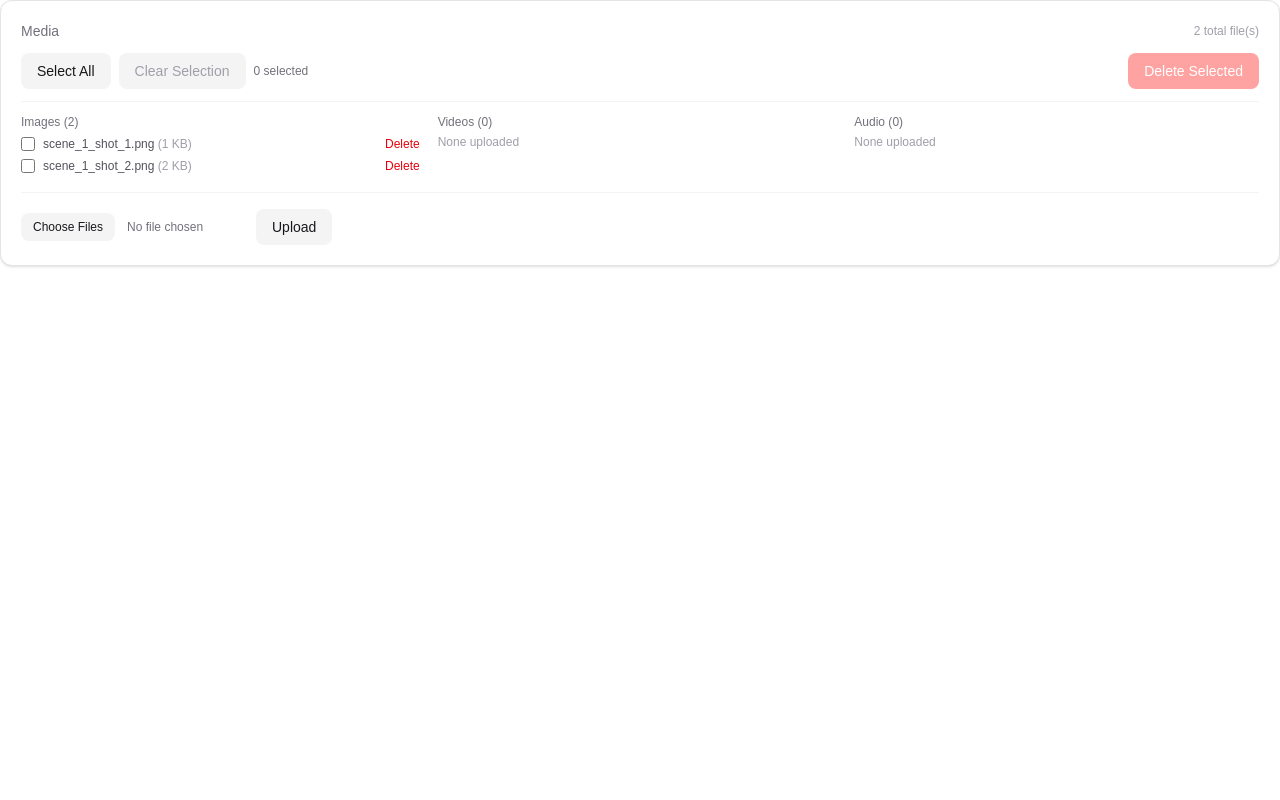
it: MediaPanel › shows an error message when a single delete fails
The image size is (1280, 800).
Check: the text "scene_1_shot_1.png" is shown, box [43,137,154,151]
Step 1. Click the button with aria-label "Delete scene_1_shot_1.png" → (402, 144), box [379,134,426,154]
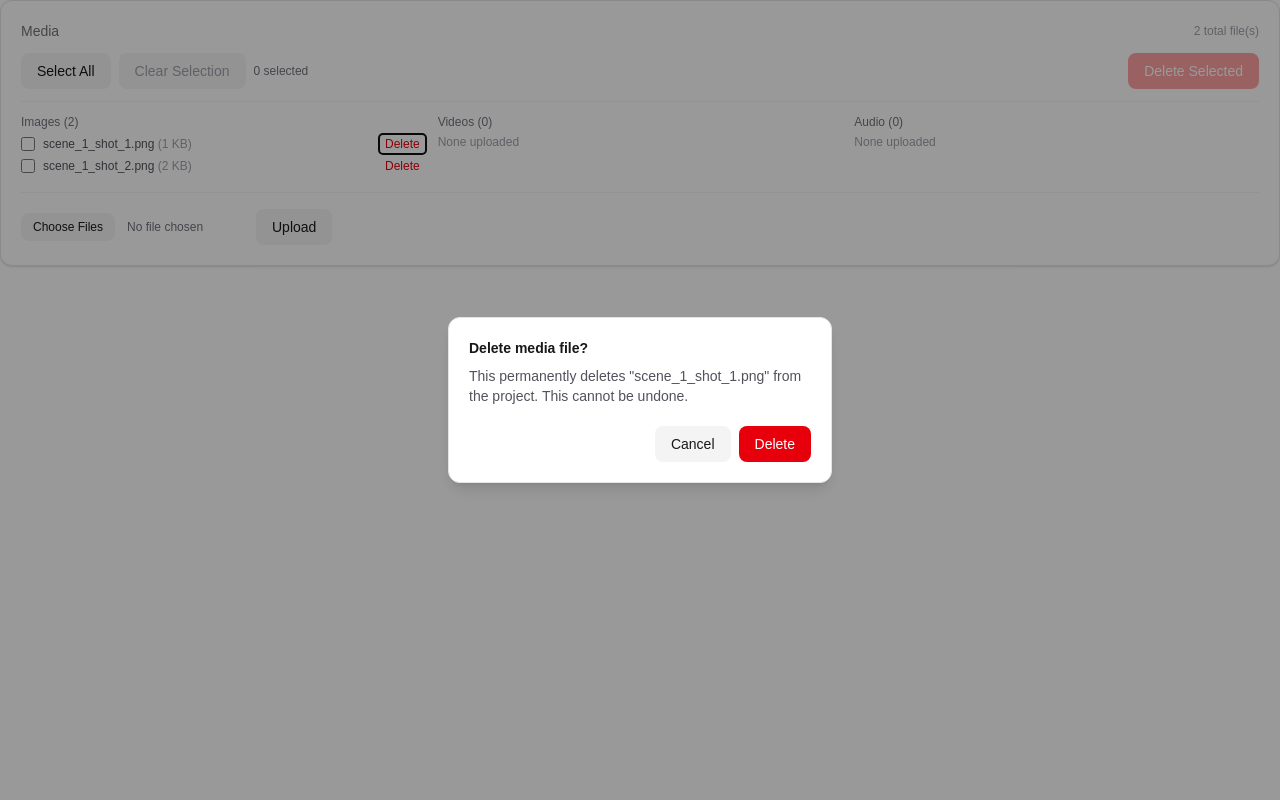
Step 2. Click the button "Delete" → (775, 444), box [738,426,811,462]
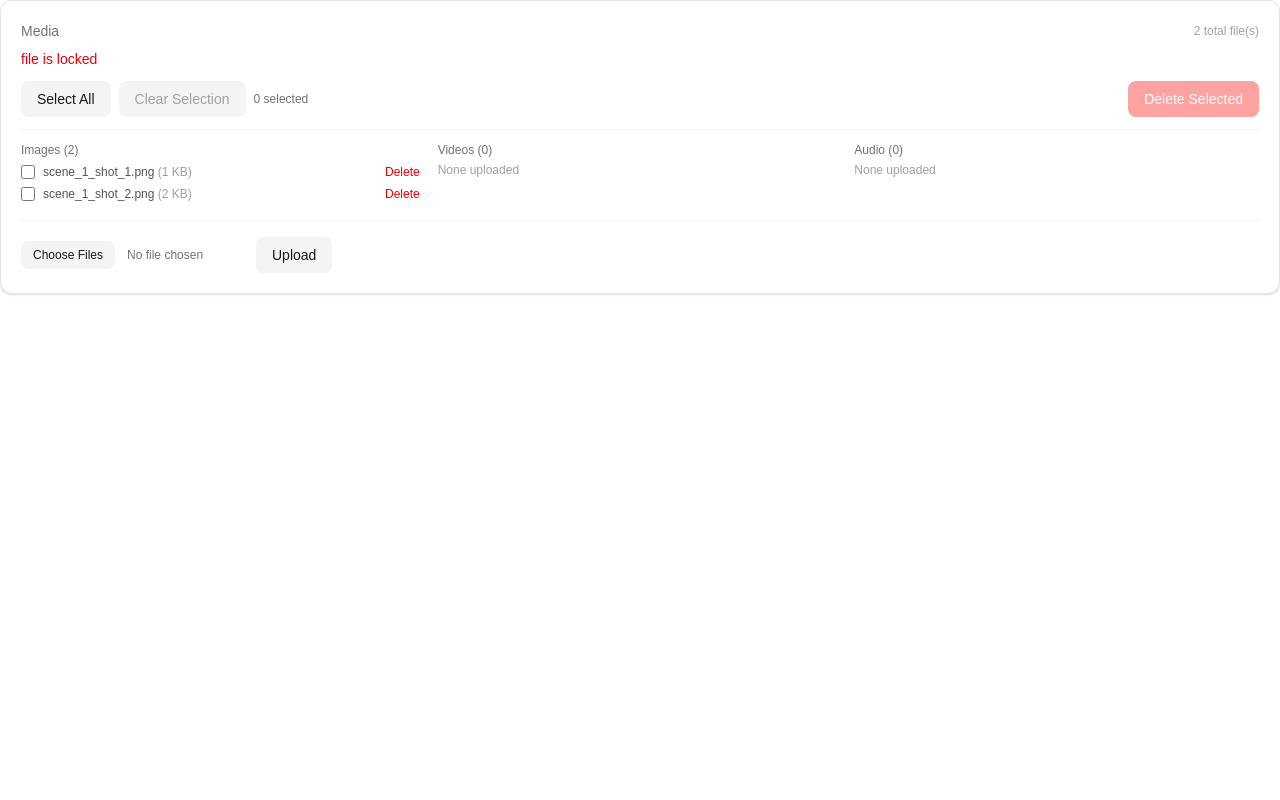
Check: the text "file is locked" is shown, box [21,51,97,67]
